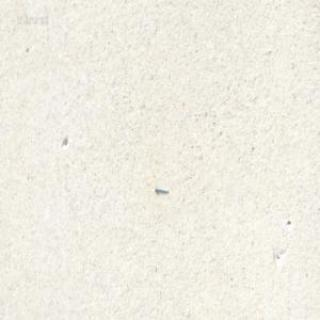Nailtrack_idkeyframe: (154, 182, 168, 192)
